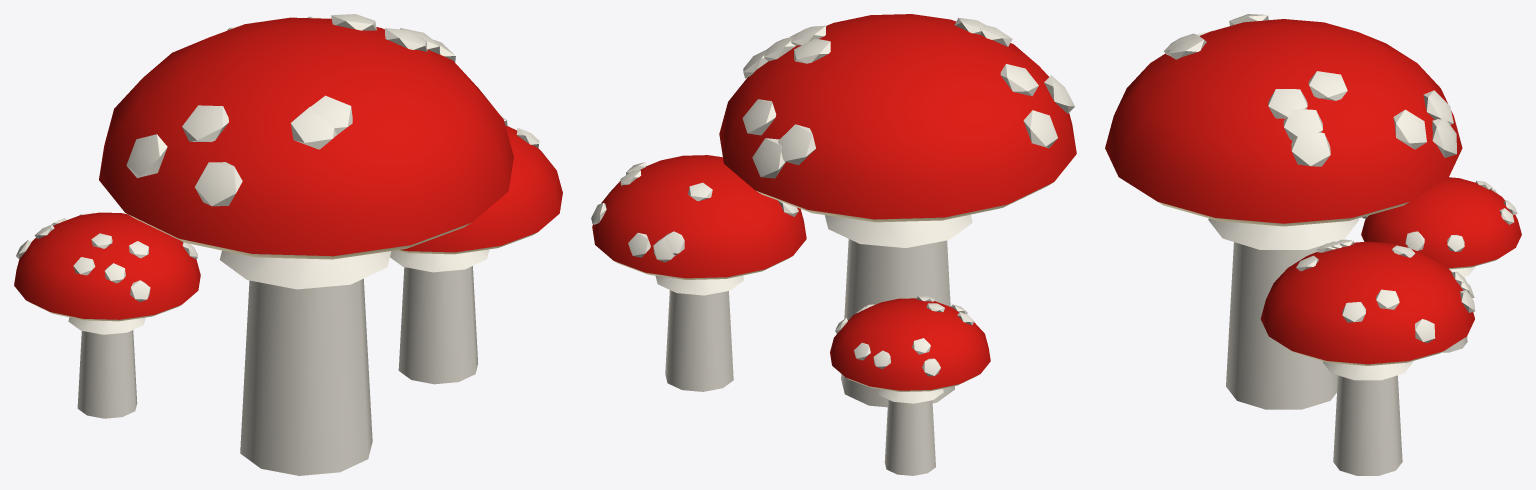
Rendered from mushrooms.obj.
3 renders of one model, left to right at view 1: azimuth 30°, elevation 25°; view 2: azimuth 150°, elevation 25°; view 3: azimuth 270°, elevation 25°, orthographic. The views are drawn at different scales.
Visible parts, largest first — view 1: mushrooms; view 2: mushrooms; view 3: mushrooms.
Boxes of the visible parts, x1,y1,x2,y2 form: mushrooms: (14, 14, 562, 475); mushrooms: (591, 14, 1076, 475); mushrooms: (1105, 14, 1521, 475).
Size of the model in its own units: 0.4485 by 0.36 by 0.3965.
